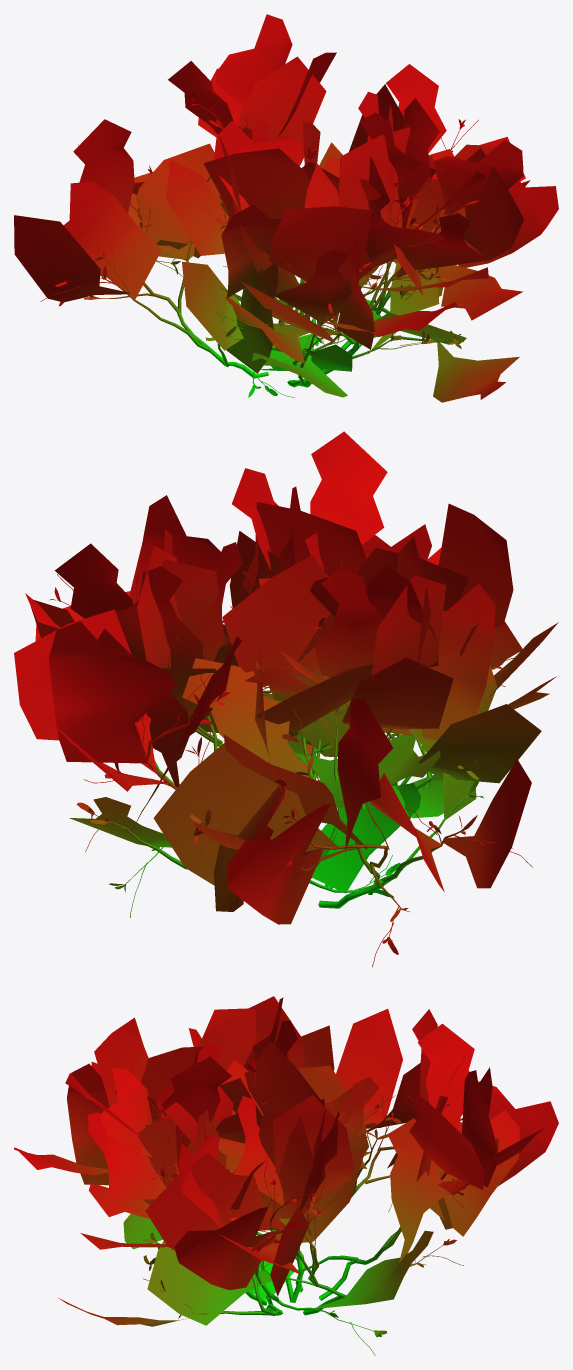
Rendered from Downy Willow_LOD5_Var2_wknlfiuqx.fbx.
3 renders of one model, top to bottom at view 1: azimuth 30°, elevation 25°; view 2: azimuth 150°, elevation 25°; view 3: azimuth 270°, elevation 25°, orthographic. The views are drawn at different scales.
Parts seen in each view (by area): view 1: _hnb0_Var2_LOD5; view 2: _hnb0_Var2_LOD5; view 3: _hnb0_Var2_LOD5.
Boxes of the visible parts, x1,y1,x2,y2 form: _hnb0_Var2_LOD5: [14, 14, 558, 402]; _hnb0_Var2_LOD5: [14, 431, 558, 967]; _hnb0_Var2_LOD5: [14, 996, 558, 1355].
Bounding box in the file's own units: 188 × 117 × 195.
